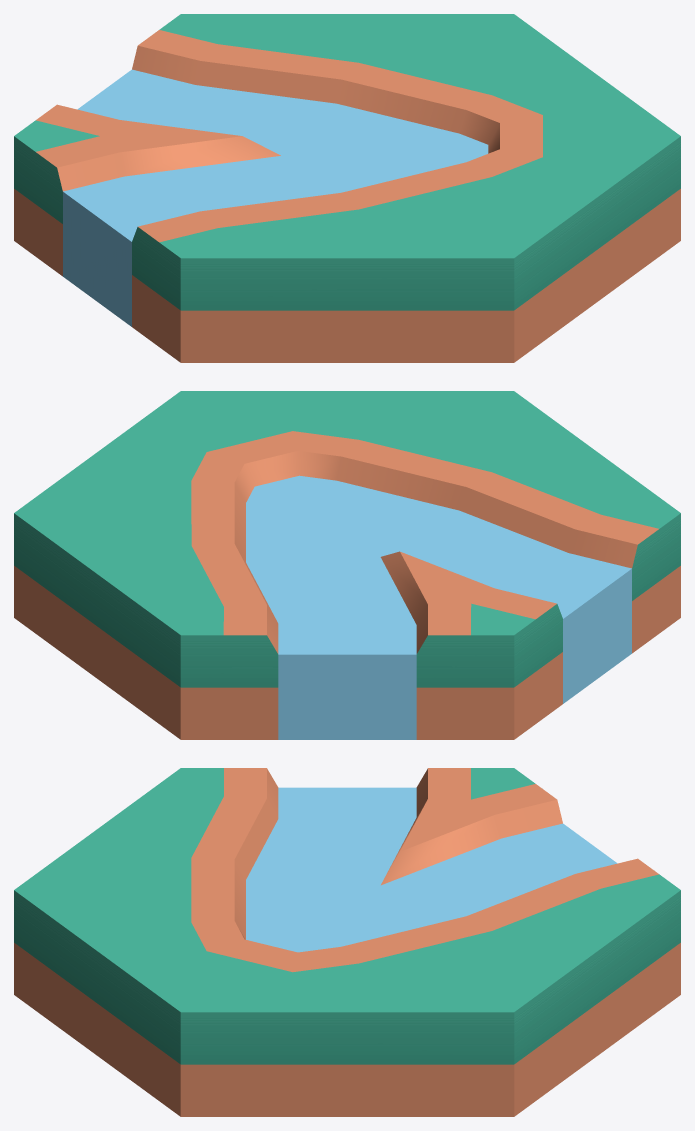
File: river-corner-sharp.glb
3 views of the same model, one above another, from view 1: azimuth 30°, elevation 25°; view 2: azimuth 150°, elevation 25°; view 3: azimuth 270°, elevation 25° (orthographic).
Parts seen in each view (by area): view 1: river-corner-sharp; view 2: river-corner-sharp; view 3: river-corner-sharp.
Part boxes in pixels (x1=…): river-corner-sharp: x1=14, y1=14, x2=680, y2=362; river-corner-sharp: x1=14, y1=391, x2=680, y2=739; river-corner-sharp: x1=14, y1=768, x2=680, y2=1116.
Bounding box in the file's own units: 1 × 0.2 × 1.15.
Materials: 1 (1 with a texture image).
